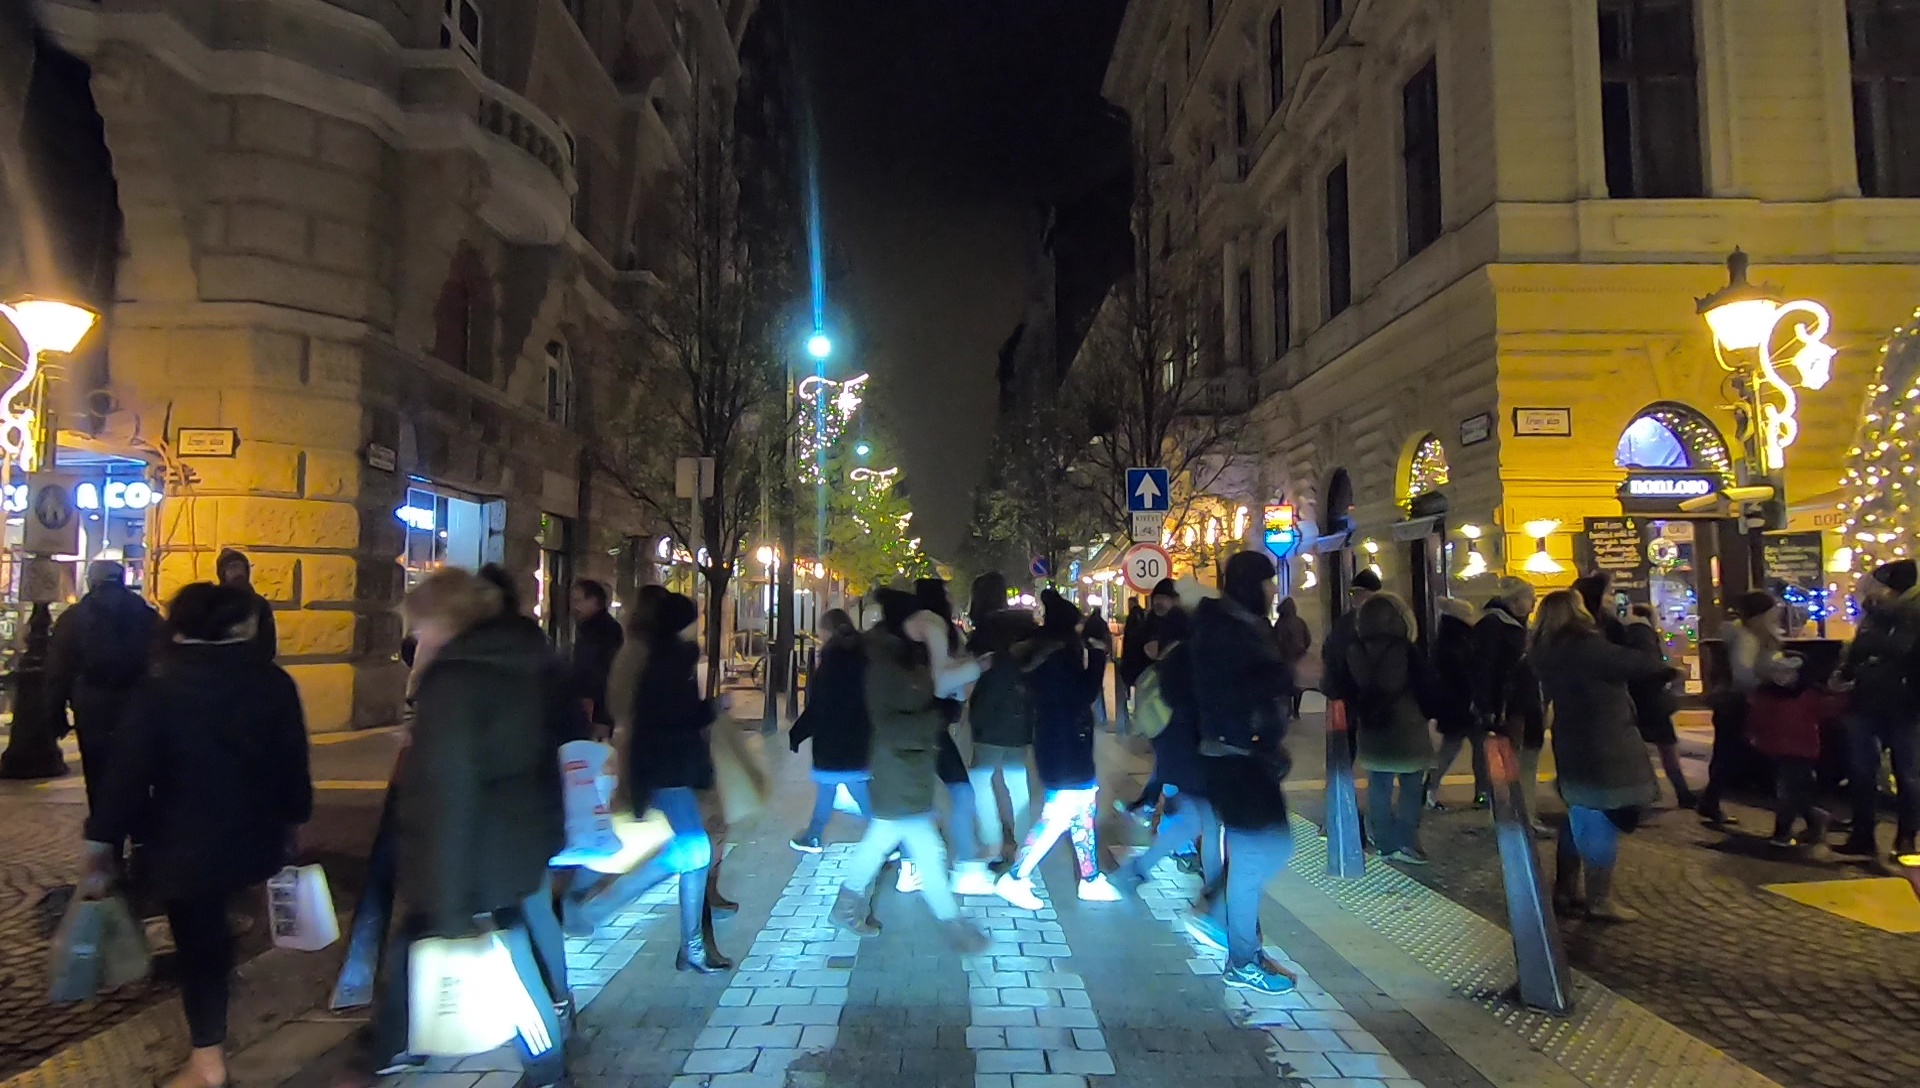person: (373, 578, 571, 1088), (584, 586, 741, 984), (828, 574, 980, 960), (1188, 560, 1308, 997), (158, 599, 264, 1088), (47, 560, 173, 900), (1536, 586, 1652, 910), (1010, 602, 1123, 911), (1576, 567, 1697, 823), (1832, 554, 1920, 866), (967, 569, 1043, 889), (791, 591, 875, 863), (1715, 586, 1799, 850), (1360, 589, 1425, 865), (1138, 582, 1202, 854), (210, 543, 278, 771), (1339, 567, 1395, 837), (1480, 580, 1534, 815), (1436, 591, 1484, 811)
